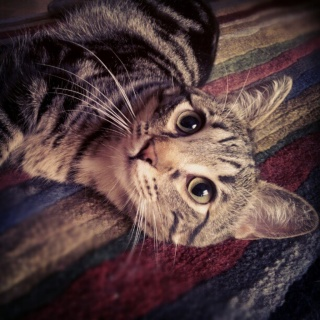Cat: (0, 0, 318, 269)
